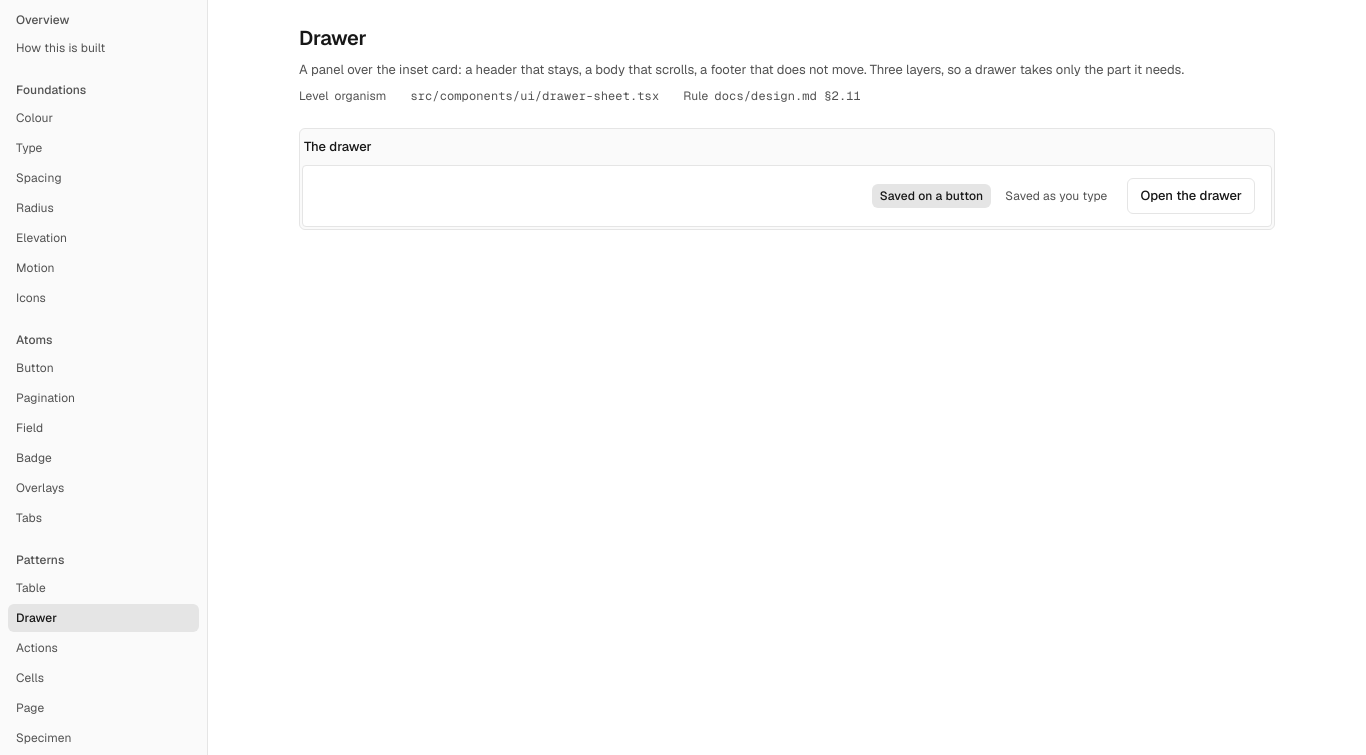
Test: the drawer specimen › expands and collapses on the one control
The image size is (1366, 755).
Click the button "Open the drawer": [1191, 196] box [1127,178,1255,214]
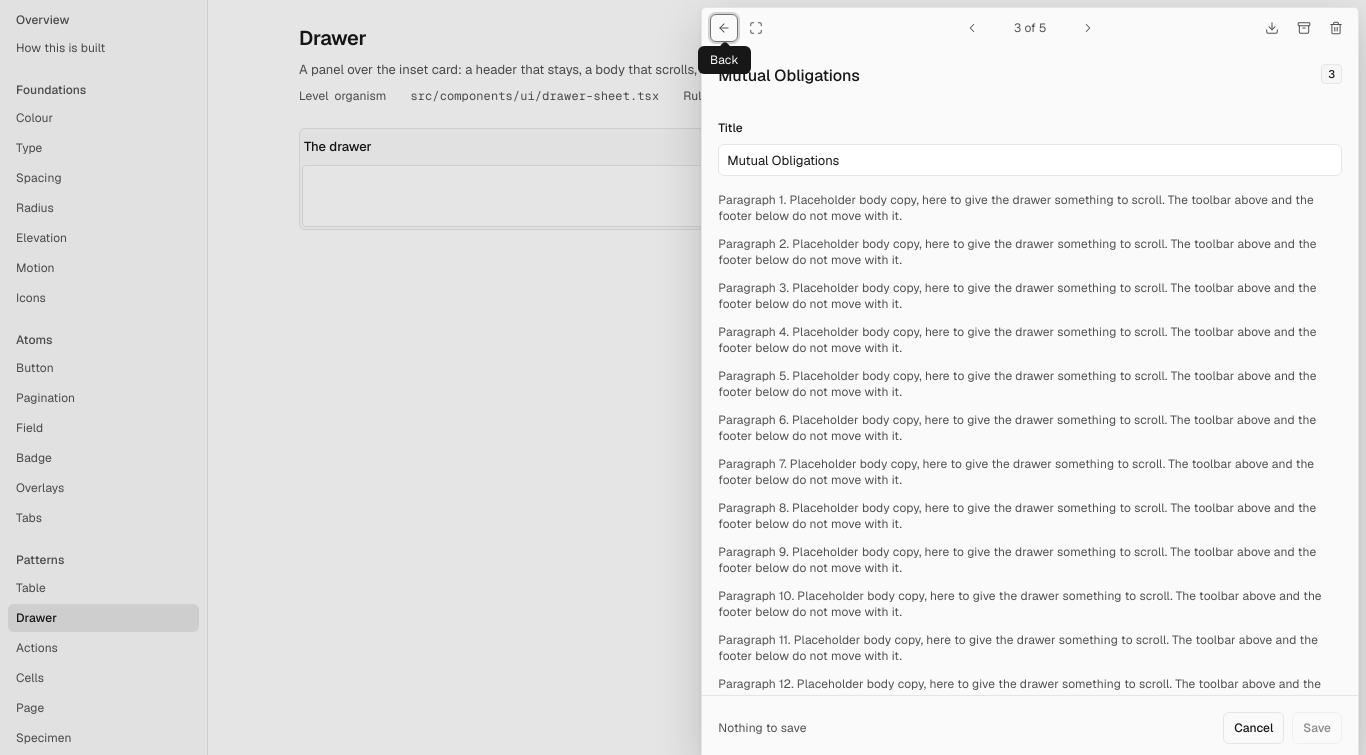
Click the button named "Expand": [756, 28] box [742,14,770,42]
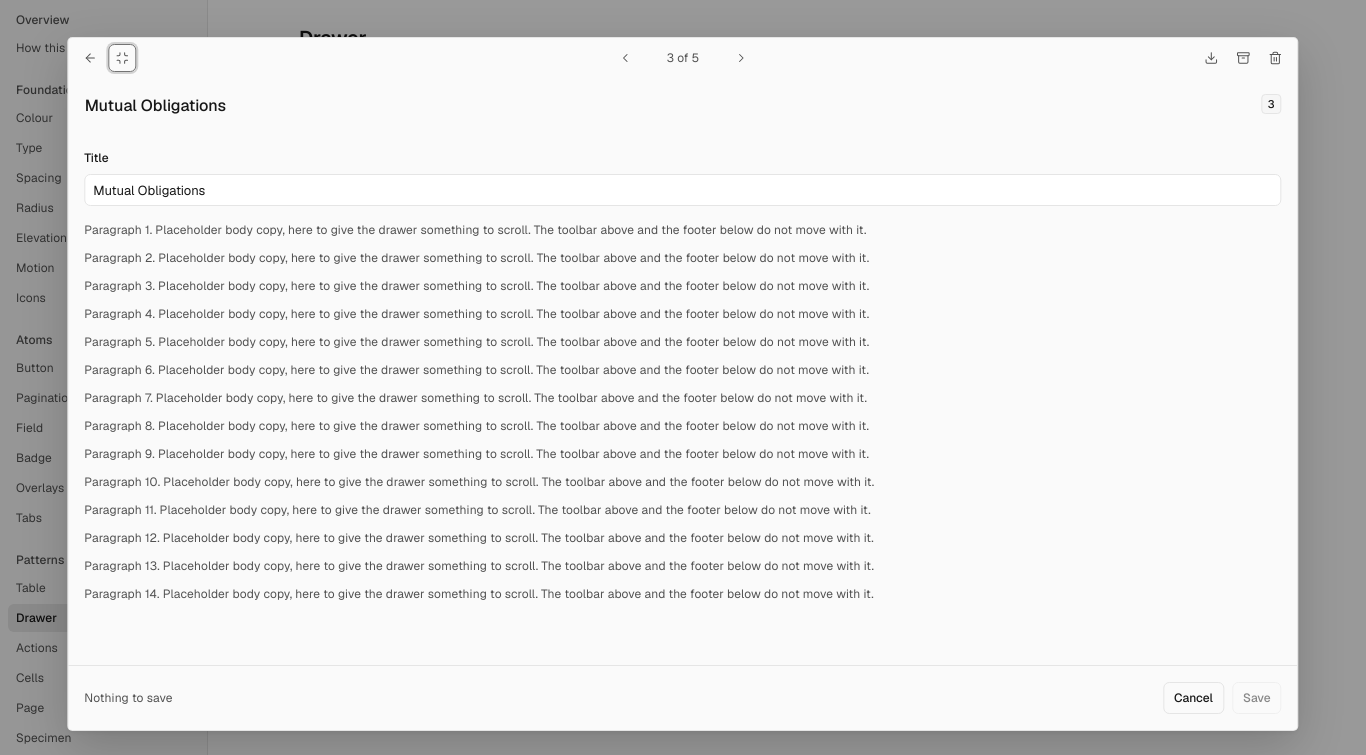
Result: the button named "Collapse to the side panel" is shown at [108,44,136,72]
